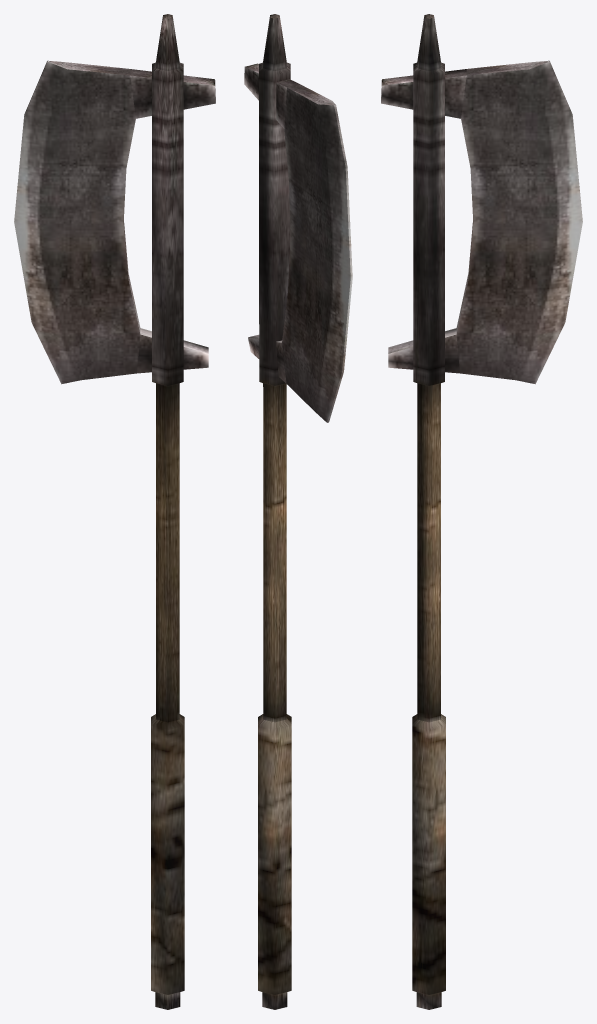
File: weapons_longw07.glb
3 renders of one model, left to right at view 1: azimuth 90°, elevation 25°; view 2: azimuth 210°, elevation 25°; view 3: azimuth 270°, elevation 25°, orthographic.
Visible parts, largest first — view 1: longw07; view 2: longw07; view 3: longw07.
Boxes of the visible parts, <box> form: longw07: <box>14,14,215,1009</box>; longw07: <box>244,14,352,1009</box>; longw07: <box>381,14,582,1009</box>.
Bounding box in the file's own units: 0.0417 × 1.17 × 0.2162.
1 material, 1 textured.
